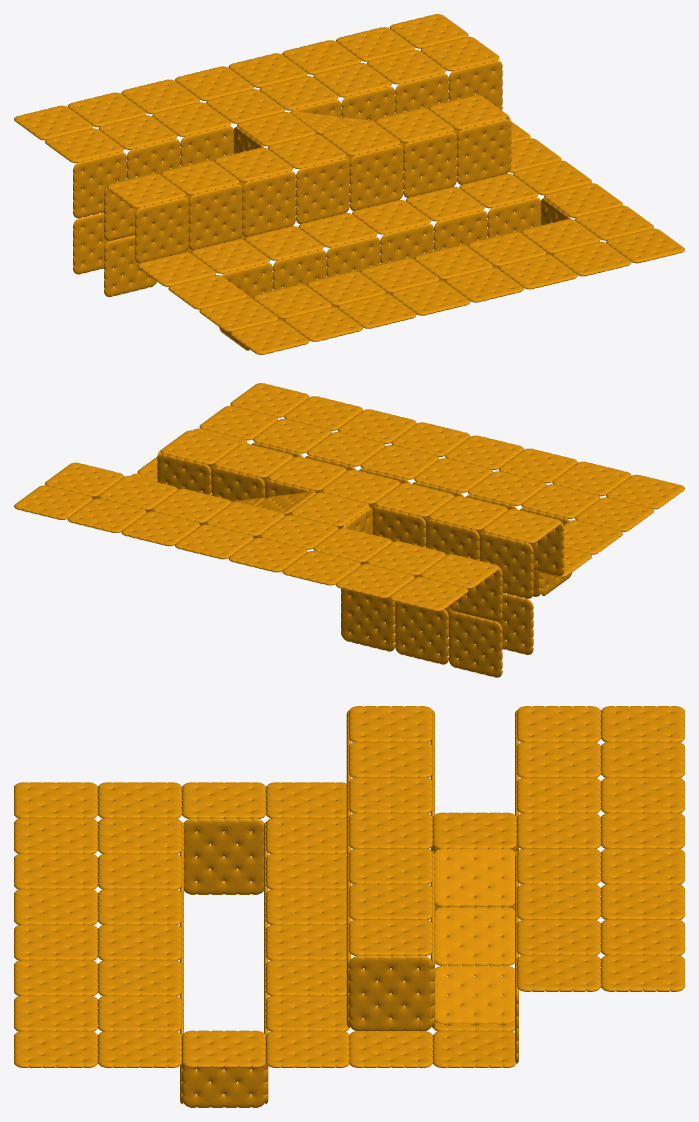
Rendered from plate (1).fbx.
3 renders of one model, top to bottom at view 1: azimuth 30°, elevation 25°; view 2: azimuth 150°, elevation 25°; view 3: azimuth 270°, elevation 25°, orthographic. The views are drawn at different scales.
Visible parts, largest first — view 1: cookie_high.145, cookie_high.144, cookie_high.147, cookie_high.149, cookie_high.143, cookie_high.146, cookie_high.148, cookie_high.151, cookie_high.018, cookie_high.157, cookie_high.015, cookie_high.092 (+63 smaller); view 2: cookie_high.015, cookie_high.016, cookie_high.017, cookie_high.158, cookie_high.018, cookie_high.135, cookie_high.137, cookie_high.138, cookie_high.140, cookie_high.139, cookie_high.141, cookie_high.136 (+44 smaller); view 3: cookie_high.150, cookie_high.014, cookie_high.165, cookie_high.167, cookie_high.166, cookie_high.013, cookie_high.134, cookie_high.142, cookie_high.099, cookie_high.107, cookie_high.117, cookie_high.109 (+47 smaller).
Boxes of the visible parts, x1,y1,x2,y2 form: cookie_high.145: [242, 171, 296, 237]; cookie_high.144: [188, 184, 242, 250]; cookie_high.147: [349, 145, 403, 210]; cookie_high.149: [457, 118, 510, 184]; cookie_high.143: [135, 197, 188, 263]; cookie_high.146: [296, 158, 349, 223]; cookie_high.148: [403, 132, 456, 197]; cookie_high.151: [73, 152, 126, 218]; cookie_high.018: [104, 234, 156, 297]; cookie_high.157: [448, 60, 502, 110]; cookie_high.015: [73, 211, 122, 274]; cookie_high.092: [230, 320, 309, 354]; cookie_high.015: [448, 611, 502, 677]; cookie_high.016: [395, 601, 448, 664]; cookie_high.017: [341, 588, 394, 651]; cookie_high.158: [479, 532, 533, 598]; cookie_high.018: [483, 592, 533, 654]; cookie_high.135: [389, 577, 468, 611]; cookie_high.137: [282, 551, 361, 585]; cookie_high.138: [228, 537, 307, 572]; cookie_high.140: [121, 511, 200, 546]; cookie_high.139: [175, 524, 253, 559]; cookie_high.141: [67, 498, 146, 532]; cookie_high.136: [336, 564, 414, 598]; cookie_high.150: [349, 955, 432, 1030]; cookie_high.014: [183, 818, 264, 894]; cookie_high.165: [434, 848, 515, 907]; cookie_high.167: [435, 965, 514, 1024]; cookie_high.166: [435, 907, 514, 965]; cookie_high.013: [182, 1043, 265, 1107]; cookie_high.134: [517, 954, 600, 991]; cookie_high.142: [601, 954, 684, 991]; cookie_high.099: [14, 1030, 97, 1067]; cookie_high.107: [98, 1030, 181, 1067]; cookie_high.117: [266, 1030, 349, 1067]; cookie_high.109: [182, 1030, 265, 1067].
Size of the model in its own units: 11200 by 2835 by 11180.
